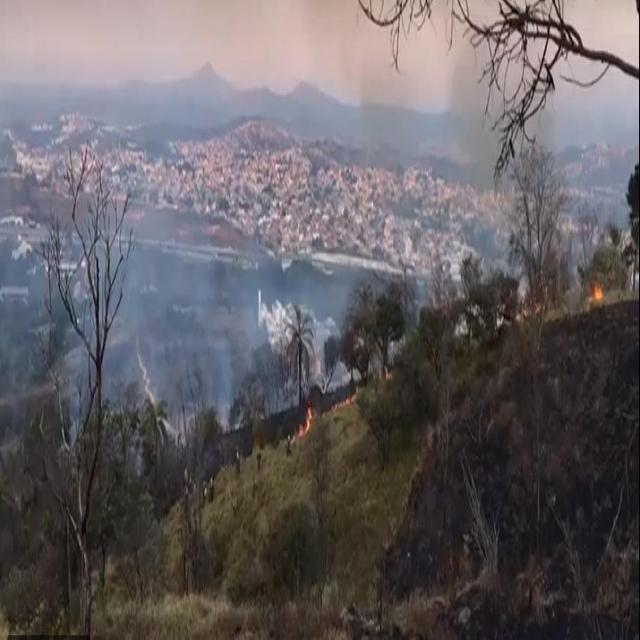Fire: (298, 404, 312, 434), (592, 276, 604, 300)
